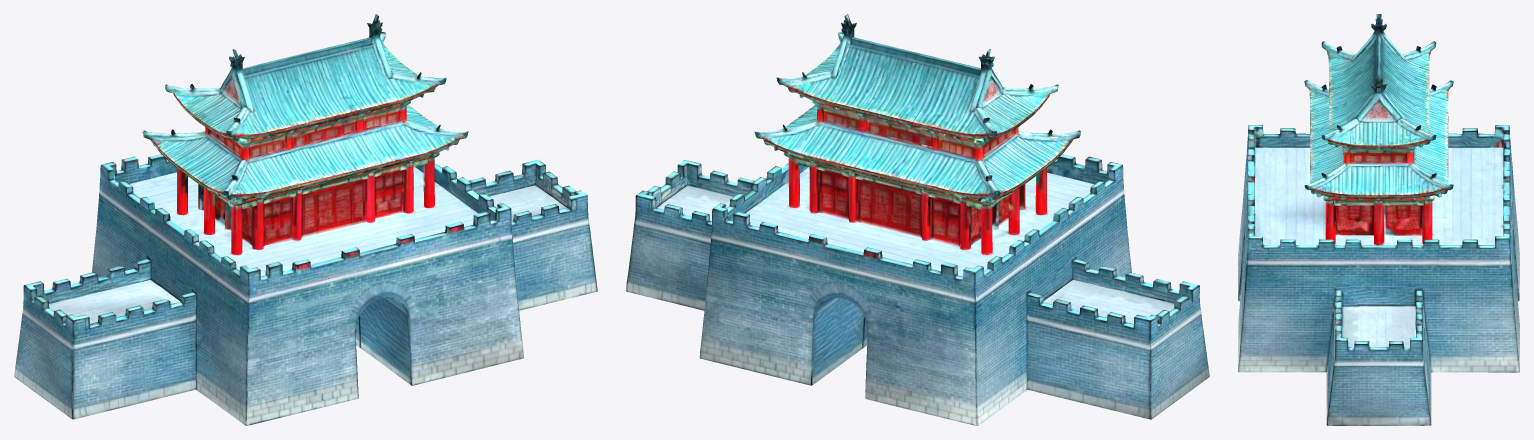
Rendered from qm_gate_lo.glb.
The picture shows the model from 3 angles, left to right: view 1: azimuth 30°, elevation 25°; view 2: azimuth 150°, elevation 25°; view 3: azimuth 270°, elevation 25°; orthographic projection. The views are drawn at different scales.
Visible parts, largest first — view 1: qm_gate; view 2: qm_gate; view 3: qm_gate.
Part boxes in pixels (x1,y1,x2,y2): qm_gate: [14, 14, 597, 425]; qm_gate: [626, 14, 1209, 425]; qm_gate: [1238, 14, 1519, 425].
Size of the model in its own units: 29.11 by 16 by 15.26.
Materials: 1 (1 with a texture image).
